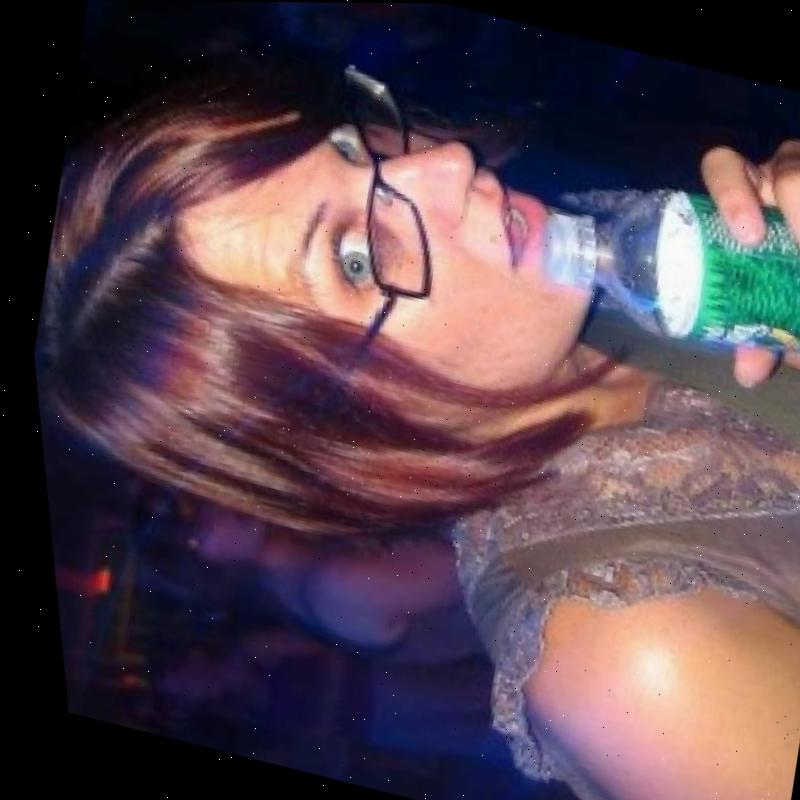botella: (513, 155, 800, 385)
